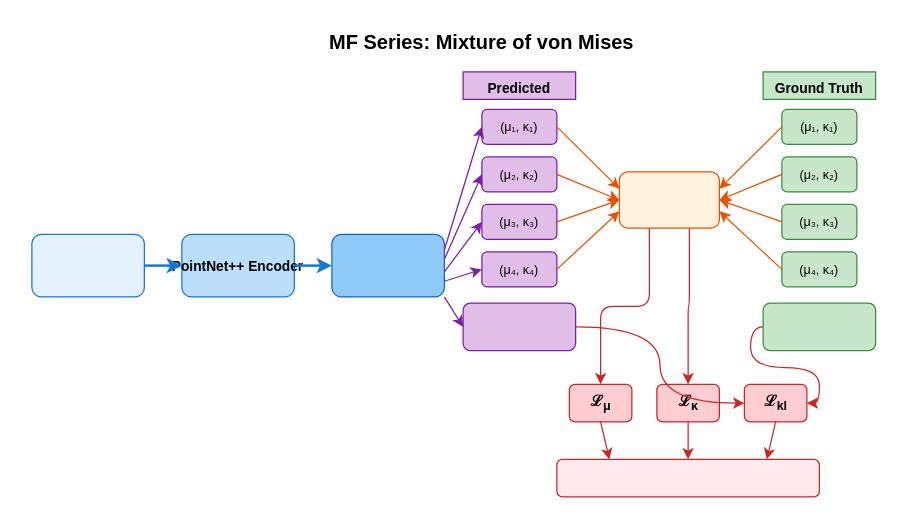
This 906x519 diagram has some shape labels left out. The shapes that lost their labels are listed below. From the top down, each one's centre as x and y in pixels, then its label:
At (x=668, y=199): "Hungarian Matching".
At (x=87, y=265): "Point Cloud (B×N×3)".
At (x=387, y=265): "MixturePeak Head".
At (x=519, y=326): "4-Peak von Mises p̂(θ)".
At (x=819, y=326): "4-Peak von Mises p*(θ)".
At (x=687, y=477): "ℒ = λ kl ·ℒ kl + λ μ ·ℒ μ + λ κ ·ℒ κ".
